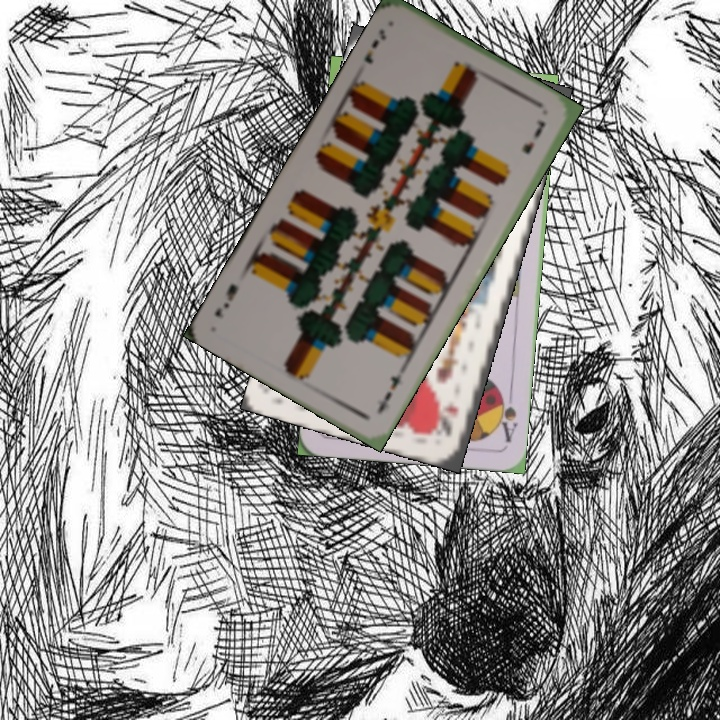E7: (373, 367, 407, 417), (360, 25, 390, 67)
HK: (437, 400, 462, 439)
SA: (493, 386, 520, 445)
